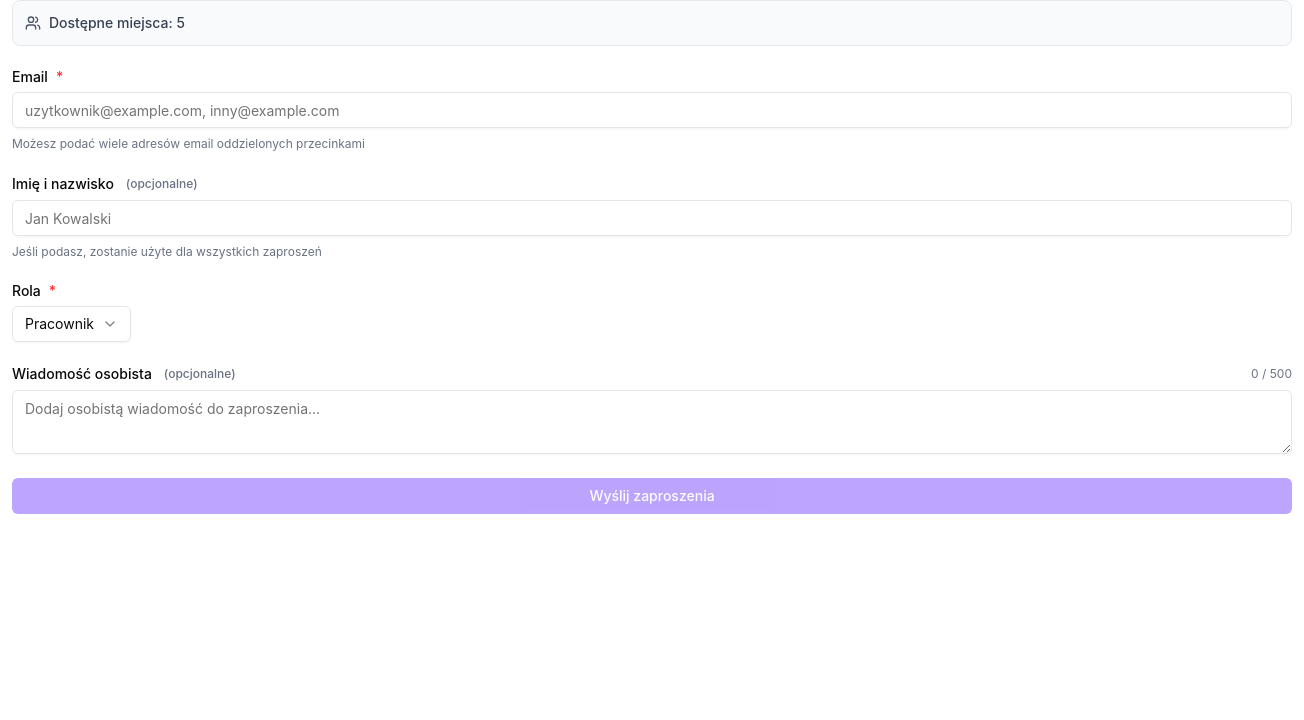
Test: InvitationForm › Email Input › should show validation error for invalid email format
The image size is (1304, 720).
Type "invalid-email" into the field labelled "Email *".
click(652, 110); type("invalid-email")  # box [12,92,1292,128]
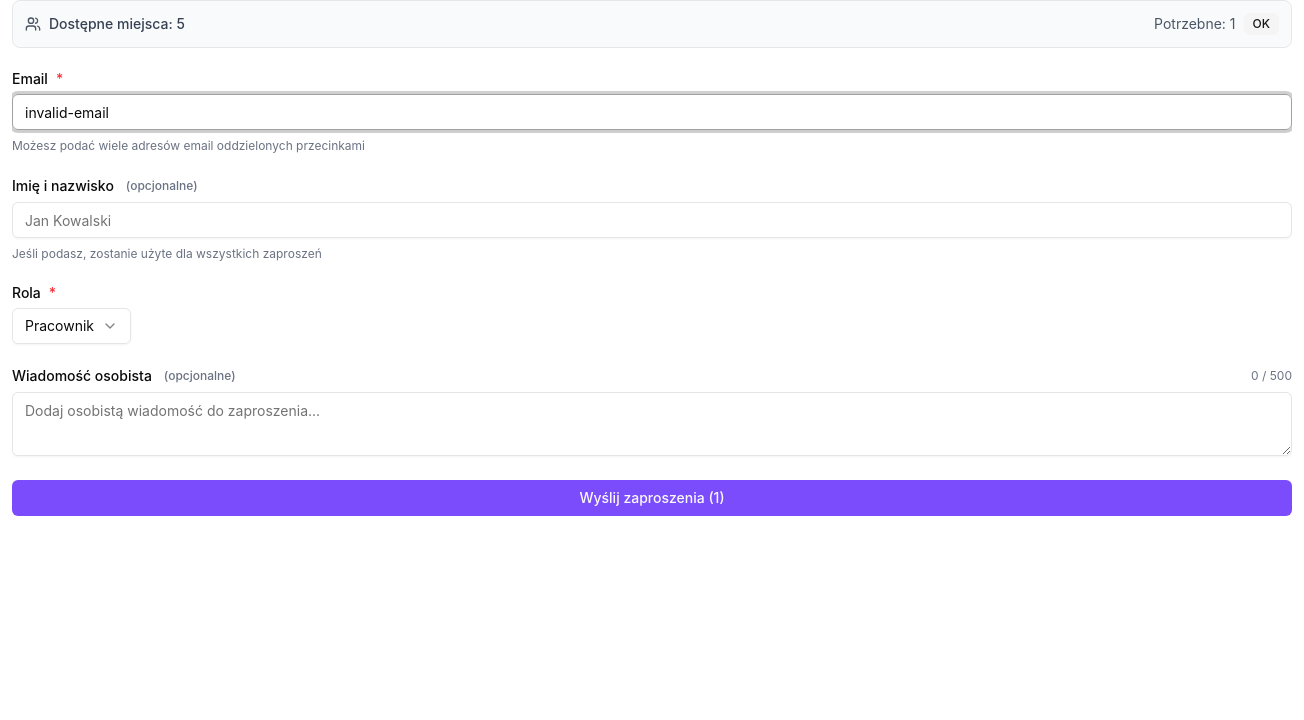
Click the button "Wyślij zaproszenia (1)".
click(652, 498)  # box [12,480,1292,516]
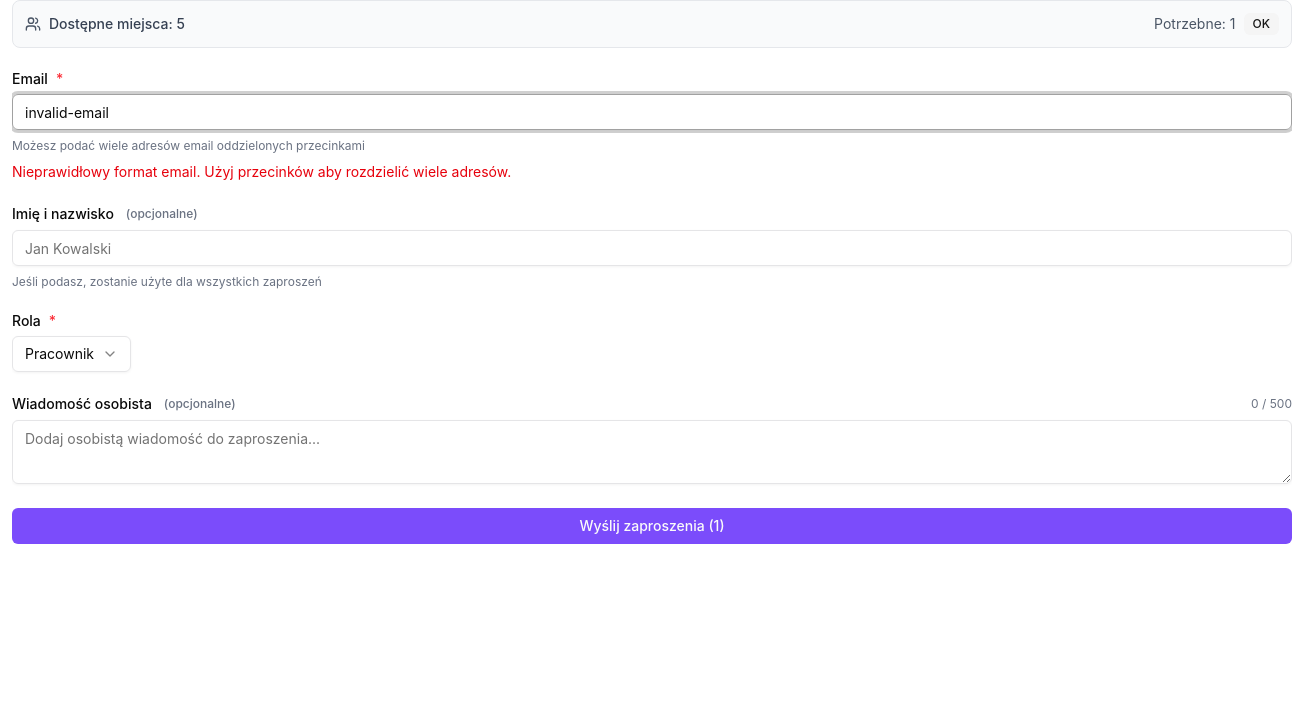
Now the text "Nieprawidłowy format email. Użyj przecinków aby rozdzielić wiele adresów." is shown, box [12,163,511,180]
